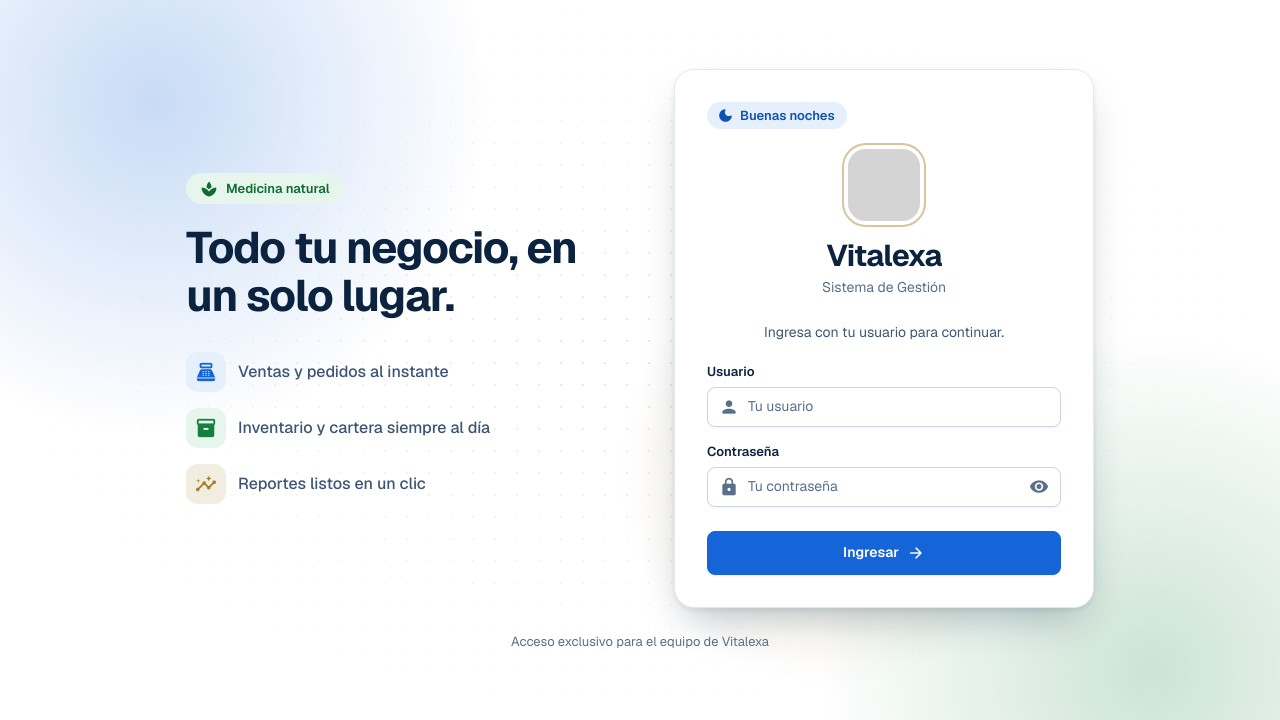
it: Login › el ojito muestra y oculta la contraseña
Type "secreto" into the password field labelled "Contraseña". click: [884, 487]
box: [707, 467, 1061, 507]
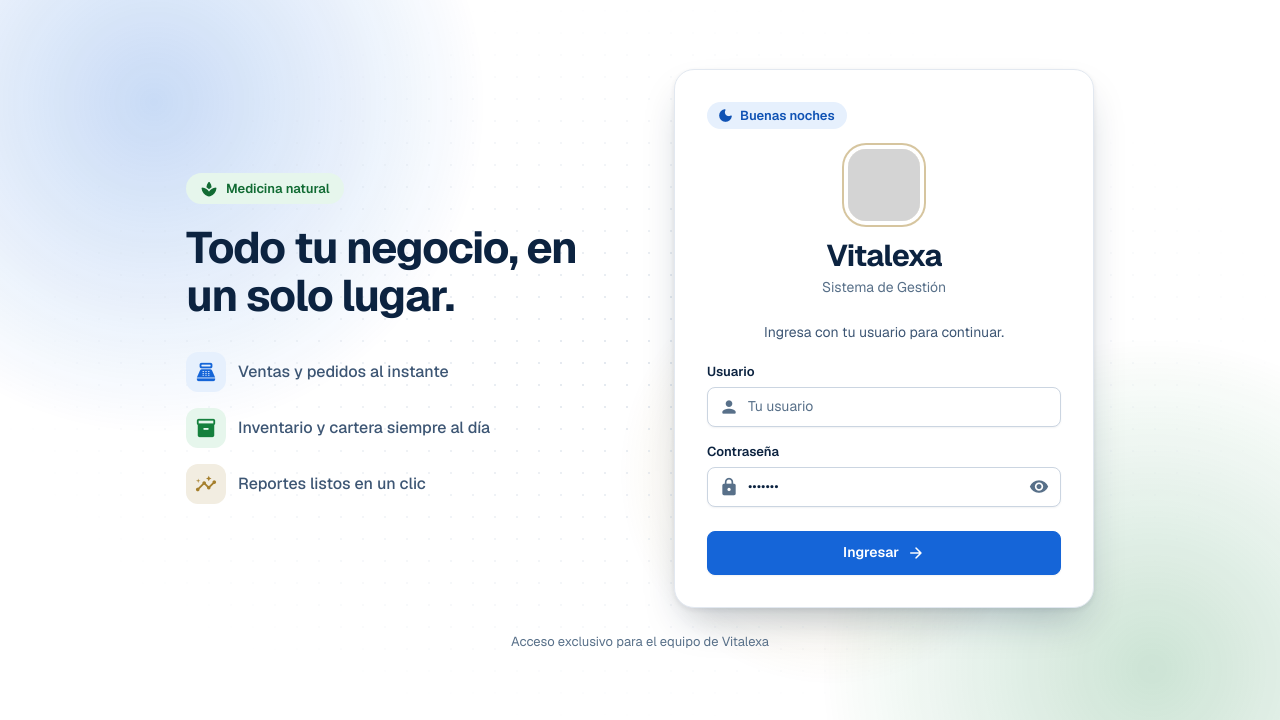
Click the button named "Mostrar contraseña". click: [1039, 487]
box: [1021, 469, 1057, 505]
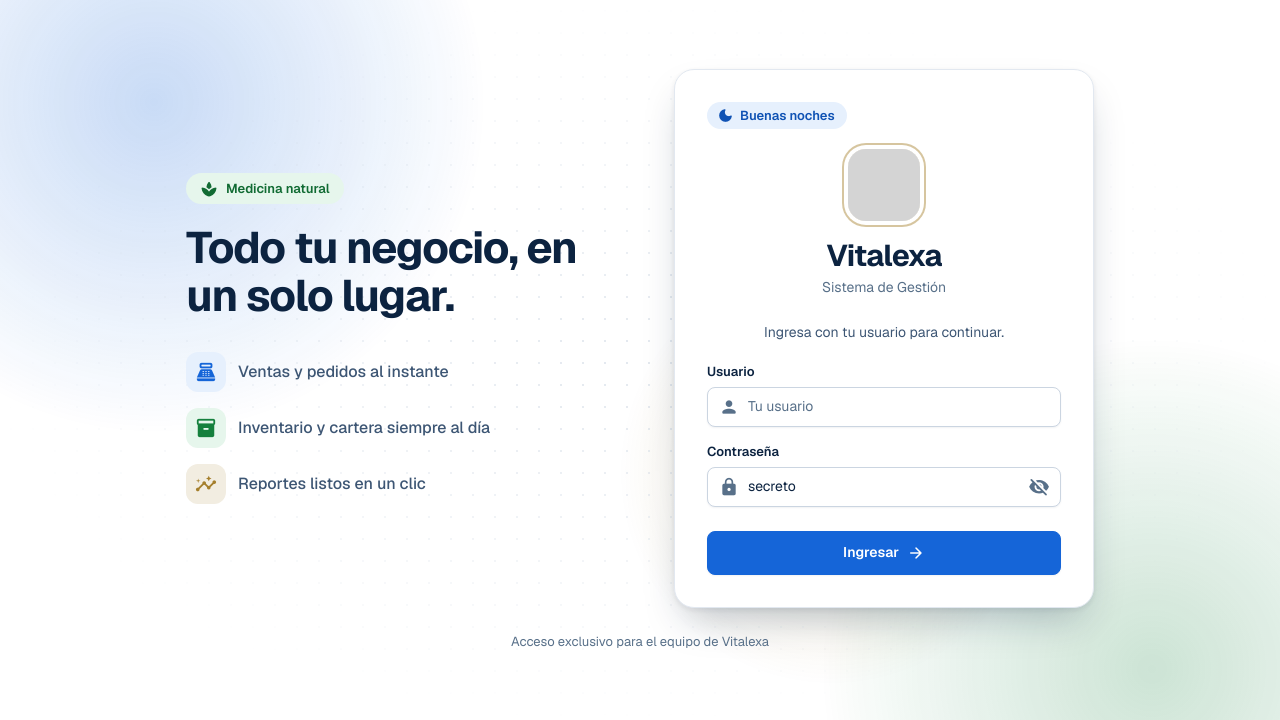
Result: the field labelled "Contraseña" shows its text at [707, 467, 1061, 507]
Click the button named "Ocultar contraseña". click: [1039, 487]
box: [1021, 469, 1057, 505]
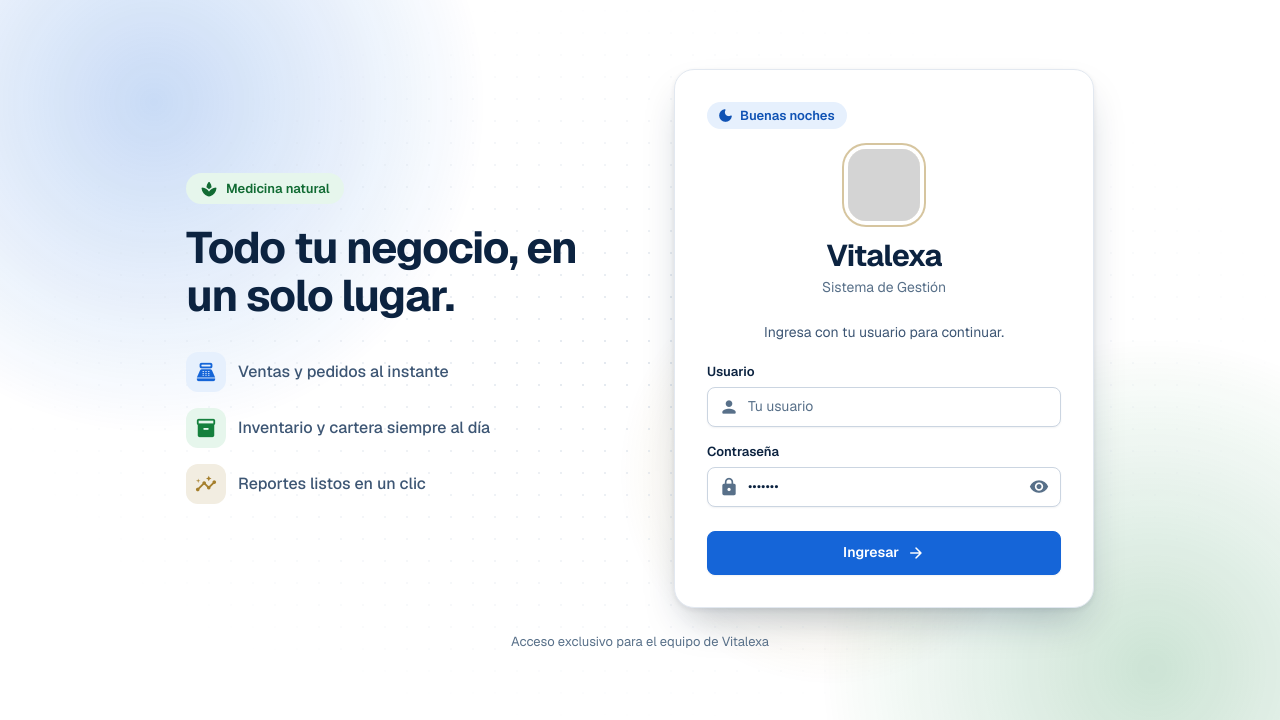
Result: the password field labelled "Contraseña" hides its text at [707, 467, 1061, 507]
